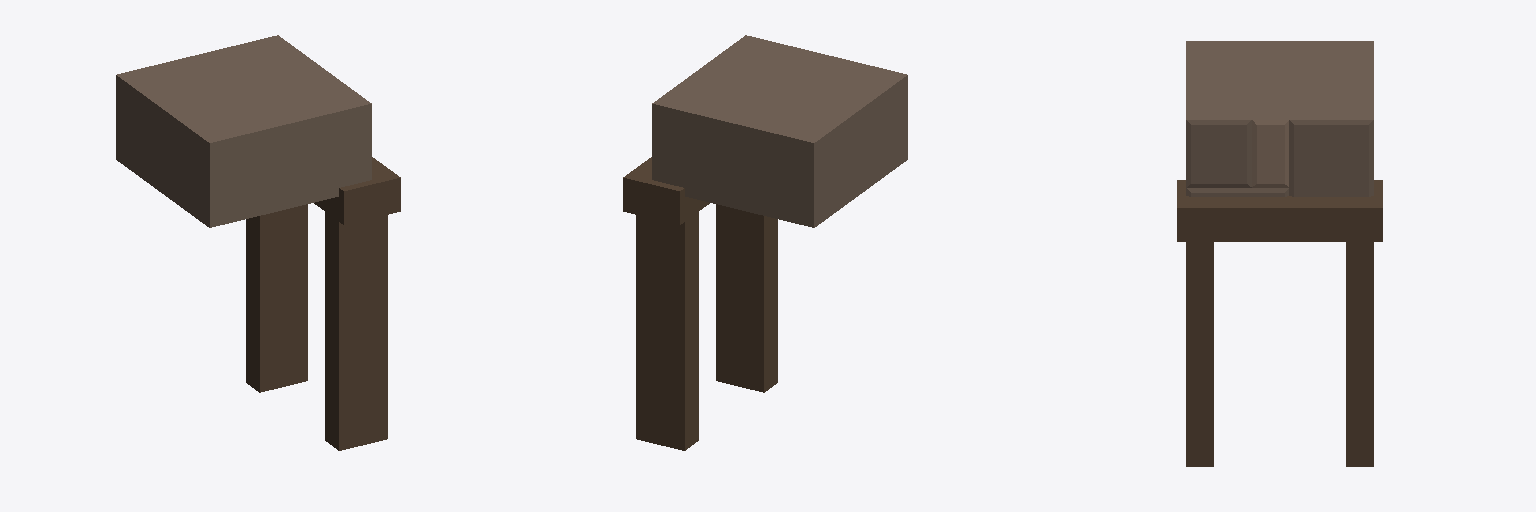
File: Stone_Doorway_Narrow_Tall_1.obj
3 renders of one model, left to right at view 1: azimuth 30°, elevation 25°; view 2: azimuth 150°, elevation 25°; view 3: azimuth 270°, elevation 25°, orthographic.
Visible parts, largest first — view 1: object1, object2; view 2: object1, object2; view 3: object1, object2.
Boxes of the visible parts, x1,y1,x2,y2 form: object1: [116, 35, 371, 227]; object2: [246, 157, 400, 450]; object1: [652, 35, 907, 227]; object2: [623, 157, 777, 450]; object1: [1186, 41, 1373, 196]; object2: [1177, 180, 1382, 466].
Bounding box in the file's own units: 1.15 × 2 × 1.1.